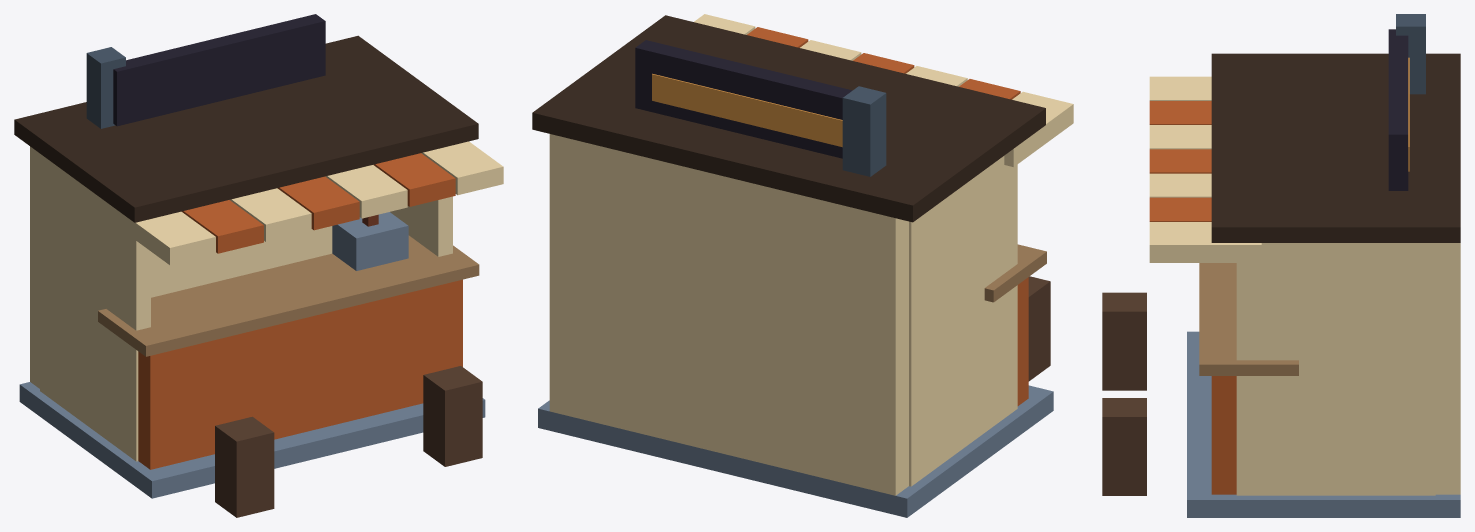
Rendered from imbiss.obj.
3 renders of one model, left to right at view 1: azimuth 30°, elevation 25°; view 2: azimuth 150°, elevation 25°; view 3: azimuth 270°, elevation 25°, orthographic. The views are drawn at different scales.
Parts seen in each view (by area): view 1: imbiss; view 2: imbiss; view 3: imbiss.
Part boxes in pixels (x1,y1,x2,y2): imbiss: [14, 14, 503, 517]; imbiss: [532, 14, 1073, 517]; imbiss: [1102, 14, 1460, 517].
Bounding box in the file's own units: 3.3 × 3.2 × 2.88.
